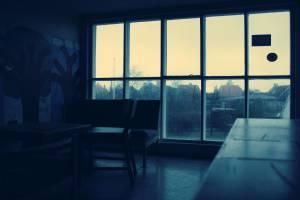window: (91, 9, 293, 144)
